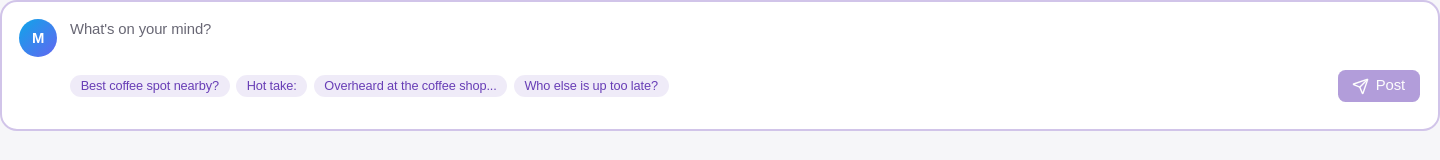
Test: BanterComposer › fills the textarea from a prompt chip and then hides the chips
Click the button "Hot take:" at (272, 86), box [236, 75, 307, 97]
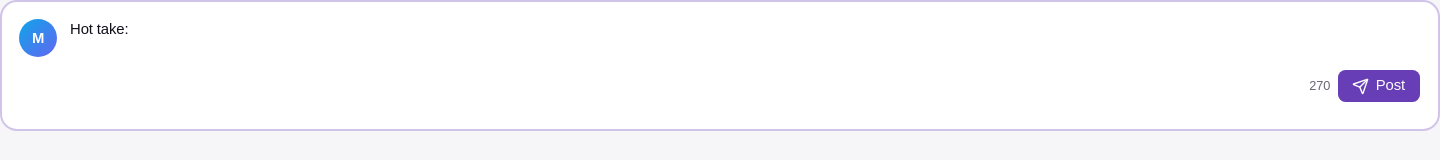
Expected: the text box named "What's on your mind?" holds "Hot take: ", [70, 19, 1421, 62]
